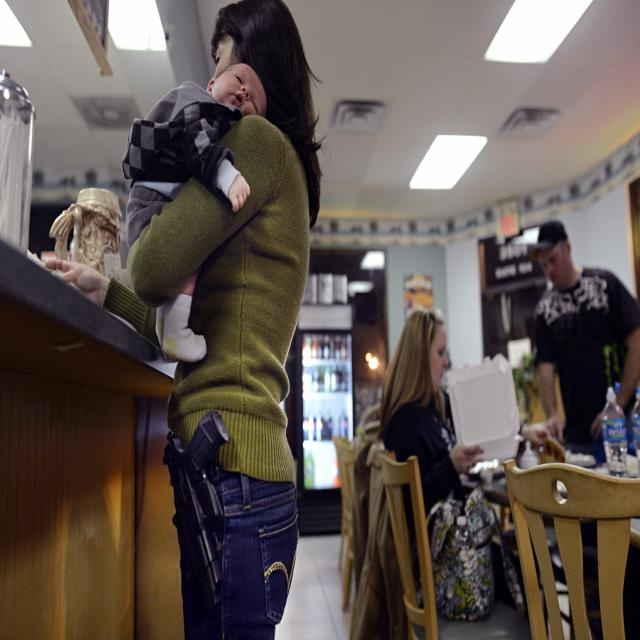gun: (158, 402, 235, 623)
